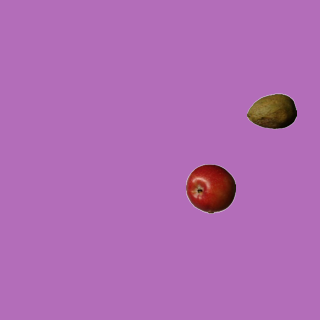Apple Braeburn: (185, 163, 235, 213)
Papaya: (246, 86, 296, 136)
